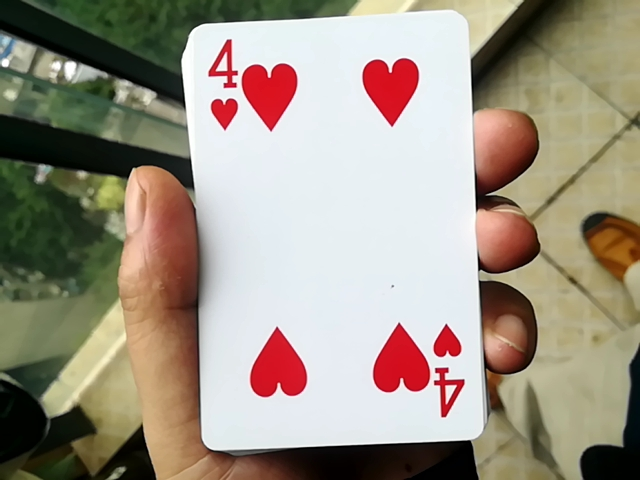hx 4: (161, 11, 478, 450)
